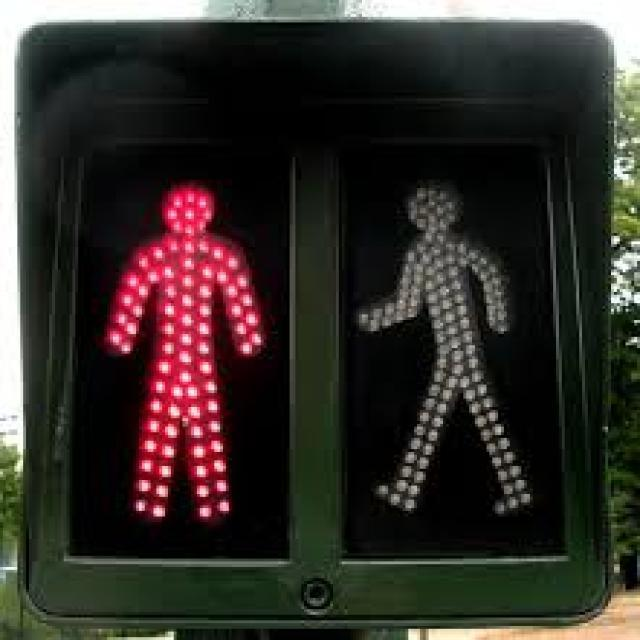red_light: (88, 165, 279, 536)
